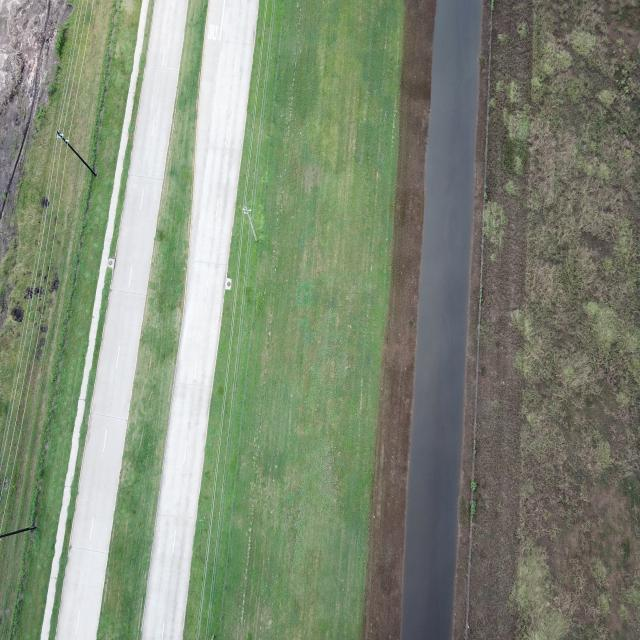fire: (402, 0, 483, 640)
